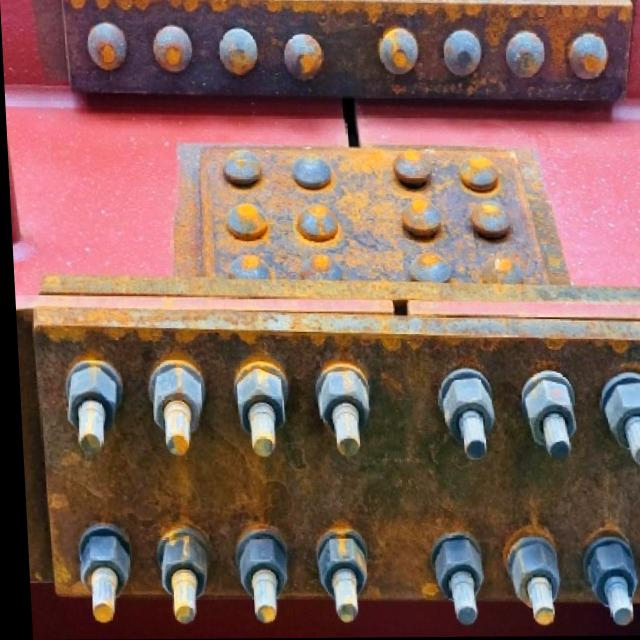Regular bolt: (304, 368, 380, 458), (423, 372, 495, 467), (224, 368, 297, 459), (417, 530, 485, 627), (569, 534, 640, 626), (511, 374, 579, 467), (68, 520, 129, 622), (142, 365, 208, 459), (58, 365, 126, 455), (311, 527, 369, 629), (228, 530, 290, 625), (501, 537, 562, 628), (152, 527, 206, 624), (591, 373, 640, 470)
